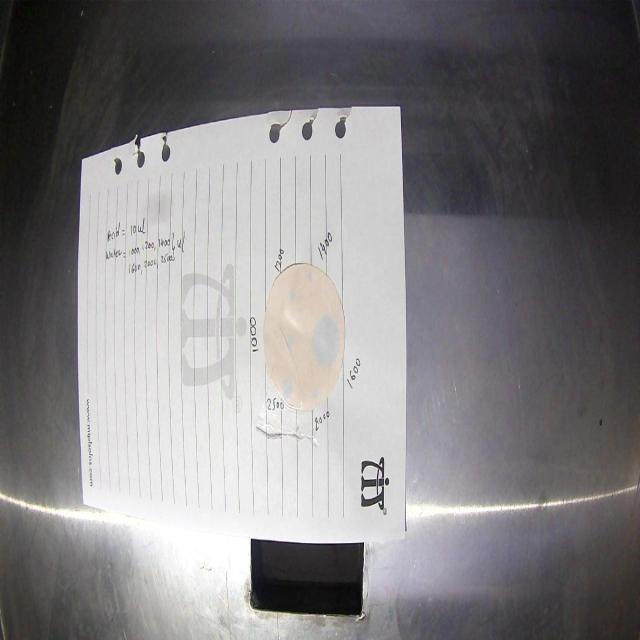BlueColor: (313, 316, 339, 367), (279, 379, 292, 399), (286, 336, 294, 350), (289, 288, 296, 303), (312, 388, 319, 399), (308, 268, 312, 284)
